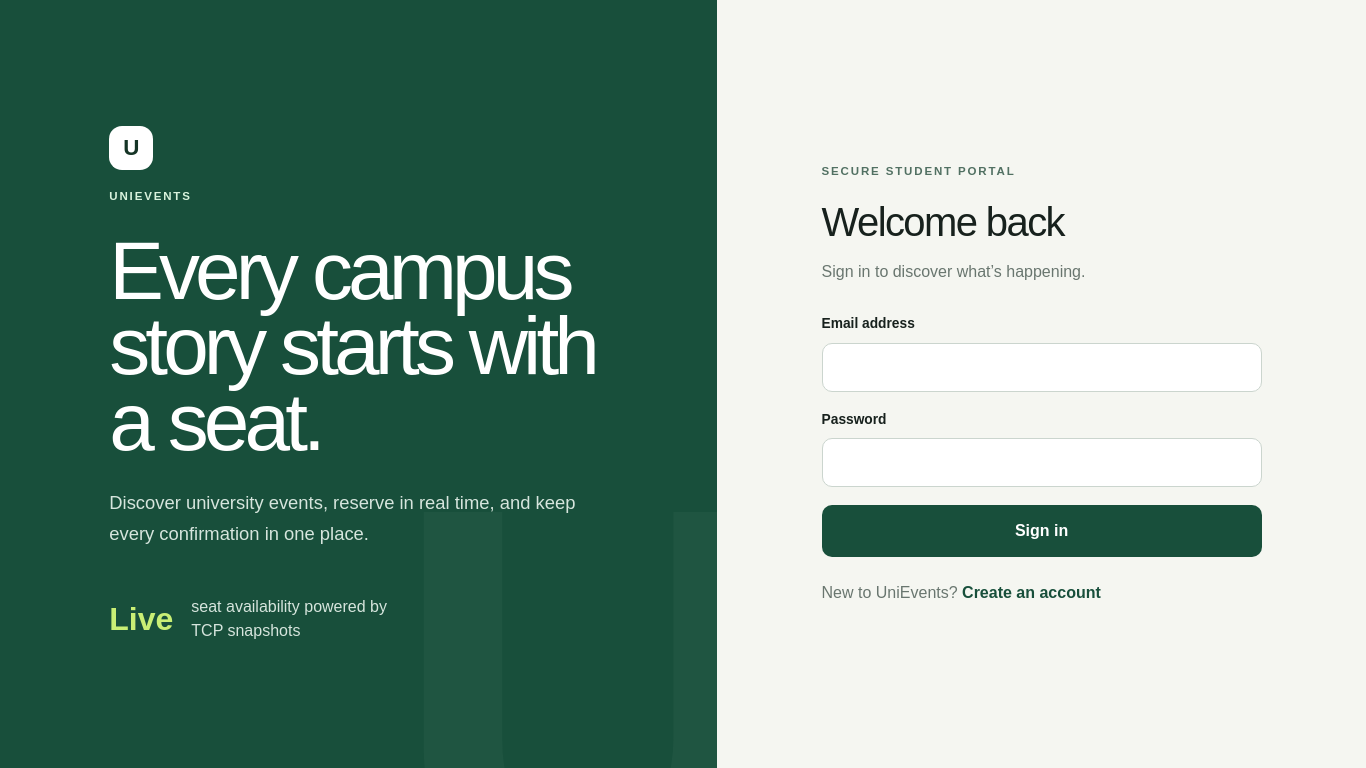
Test: UniEvents portal › shows login and registration states when no session exists
This screenshot has width=1366, height=768.
Expected: the heading "Welcome back" is shown, top-left (822, 200), bottom-right (1064, 244)
What coordinates should you click on to do the following:
click the button "Create an account"
I would click on:
 (1031, 593)
Its box is top-left (962, 581), bottom-right (1101, 605).
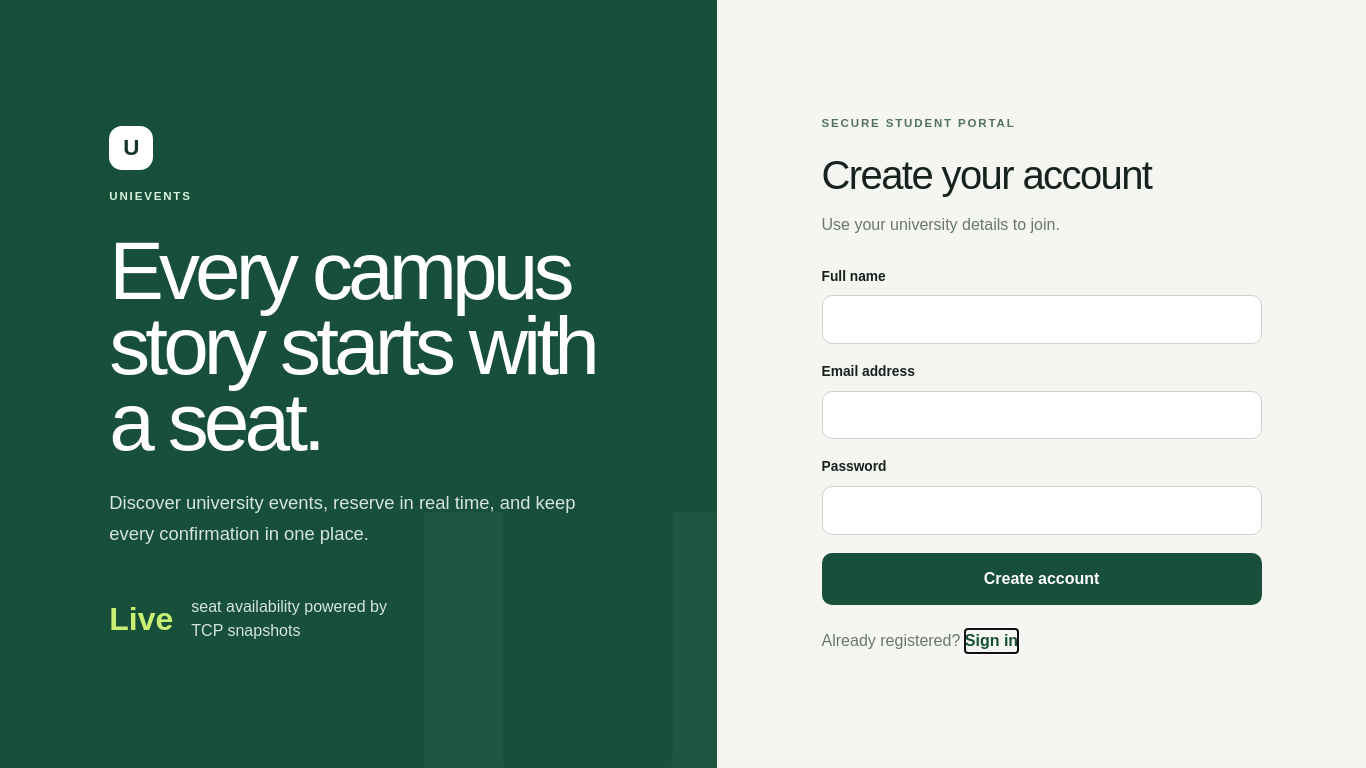
Now the heading "Create your account" is shown, box top-left (822, 153), bottom-right (1151, 197)
Now the field labelled "Full name" is shown, box top-left (822, 295), bottom-right (1262, 344)
